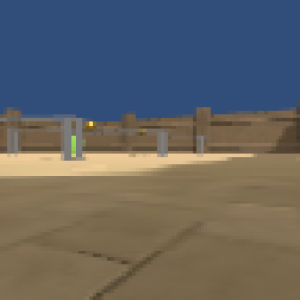goodGoal: (72, 134, 77, 154)
goodGoalMulti: (85, 120, 95, 130), (137, 127, 146, 136)
wall: (61, 115, 73, 160), (6, 128, 21, 155), (76, 118, 84, 161), (157, 131, 168, 156), (196, 135, 205, 155)
